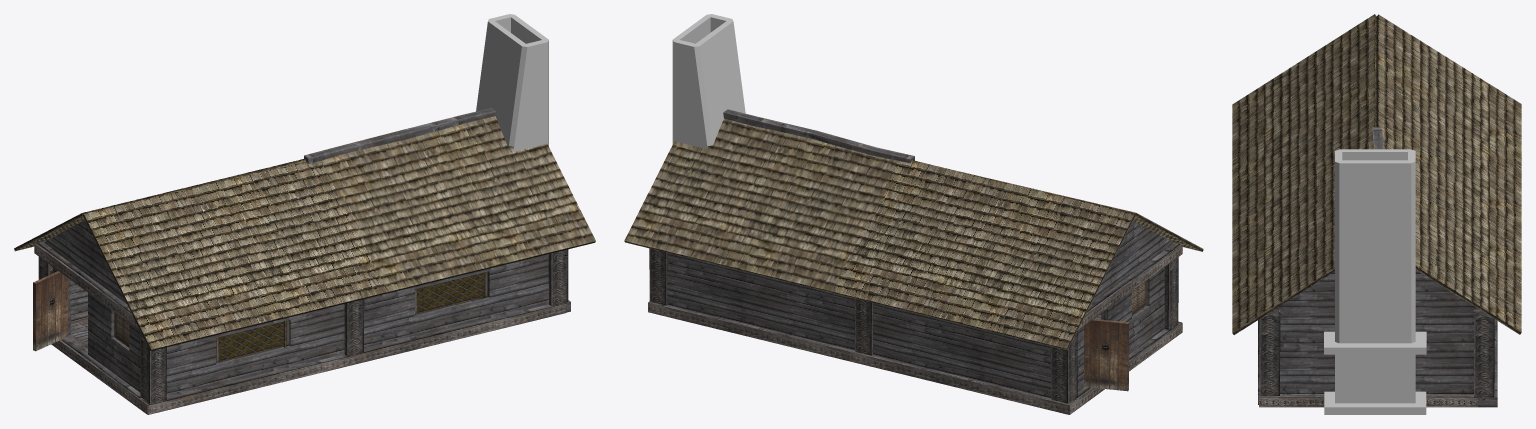
The model's file is v3_house7_LOD1.dae.
The picture shows the model from 3 angles, left to right: view 1: azimuth 30°, elevation 25°; view 2: azimuth 150°, elevation 25°; view 3: azimuth 270°, elevation 25°; orthographic projection. The views are drawn at different scales.
Parts seen in each view (by area): view 1: roof_01, WoodPlanks, WoodPlanks_ornaments, DefaultLib1.Material, windows2_c, dorwindow_set; view 2: roof_01, WoodPlanks, WoodPlanks_ornaments, DefaultLib1.Material, dorwindow_set; view 3: roof_01, DefaultLib1.Material, WoodPlanks, WoodPlanks_ornaments.
Part boxes in pixels (x1,y1,x2,y2): roof_01: (14,116,595,350); WoodPlanks: (44,108,548,397); WoodPlanks_ornaments: (34,240,570,414); DefaultLib1.Material: (476,14,548,151); windows2_c: (216,271,488,363); dorwindow_set: (33,271,286,351); roof_01: (624,118,1203,350); WoodPlanks: (667,109,1172,398); WoodPlanks_ornaments: (648,241,1182,414); DefaultLib1.Material: (672,14,745,149); dorwindow_set: (1084,280,1146,391); roof_01: (1232,14,1521,334); DefaultLib1.Material: (1324,149,1426,414); WoodPlanks: (1275,127,1478,393); WoodPlanks_ornaments: (1258,309,1497,407).
Size of the model in its own units: 19.55 by 9.38 by 9.75.
